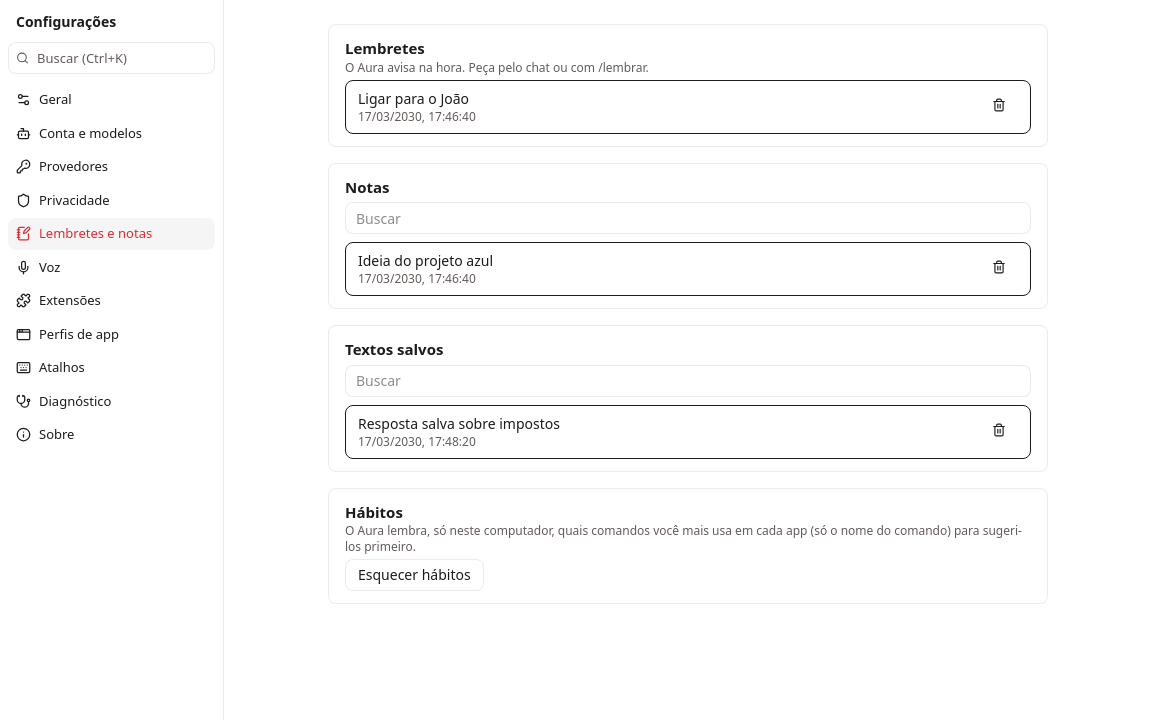
Test: reminders and notes page › lists them and deletes one
This screenshot has width=1152, height=720.
Expected: the text "Ligar para o João" is shown, [358, 88, 469, 108]
Expected: the text "Ideia do projeto azul" is shown, [358, 251, 493, 270]
In the field named "Buscar: Notas": {"x": 688, "y": 218} [345, 202, 1031, 234], type "azul"
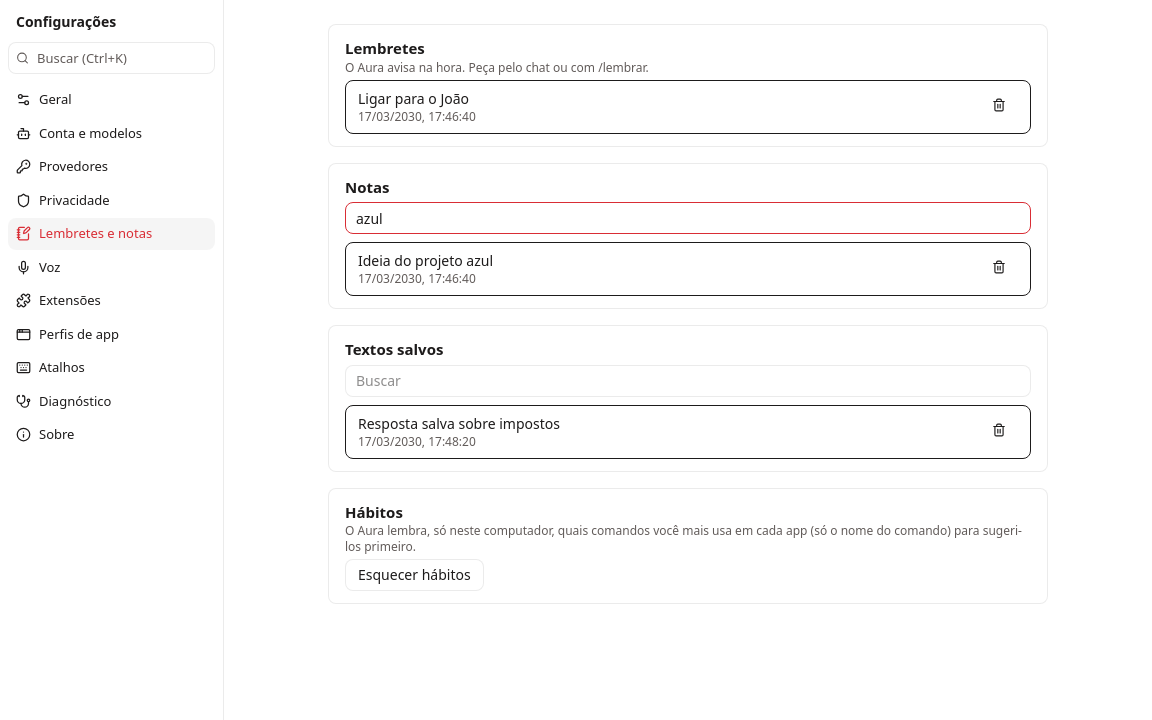
Expected: the text "Ideia do projeto azul" is shown, [358, 251, 493, 270]
Expected: the text "Resposta salva sobre impostos" is shown, [358, 414, 560, 432]
Click the button named "Apagar: Ligar para o João": {"x": 999, "y": 104} [980, 88, 1018, 120]
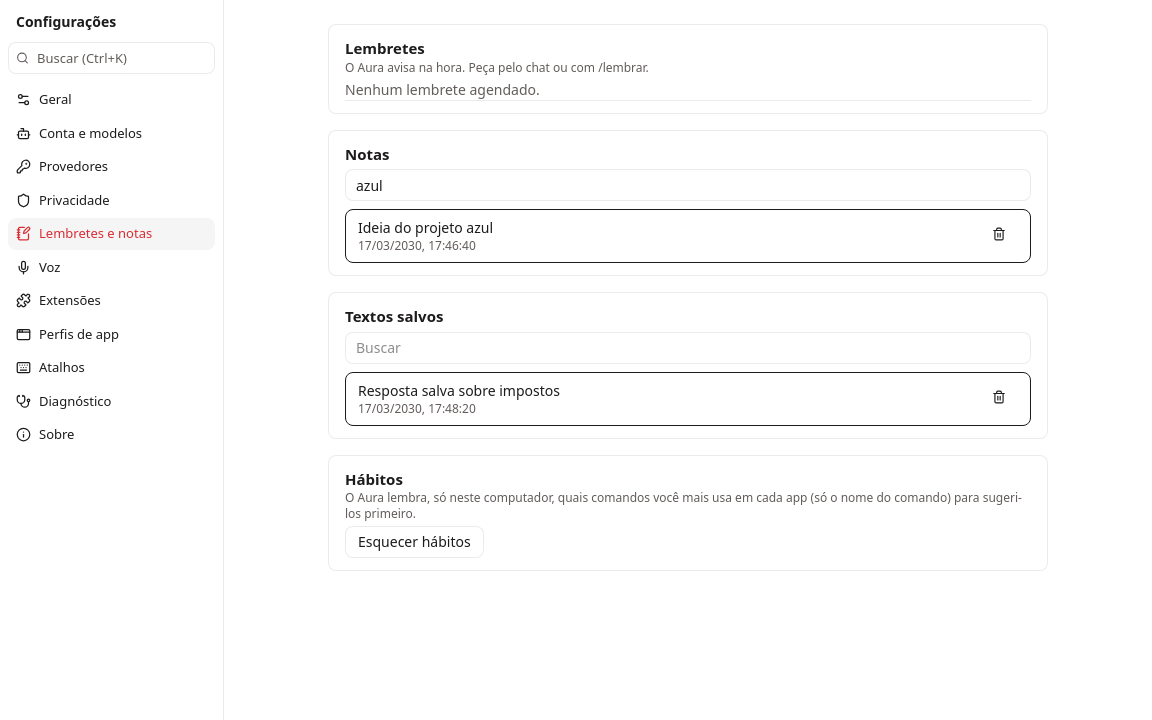
Expected: the text "Ligar para o João" is gone
